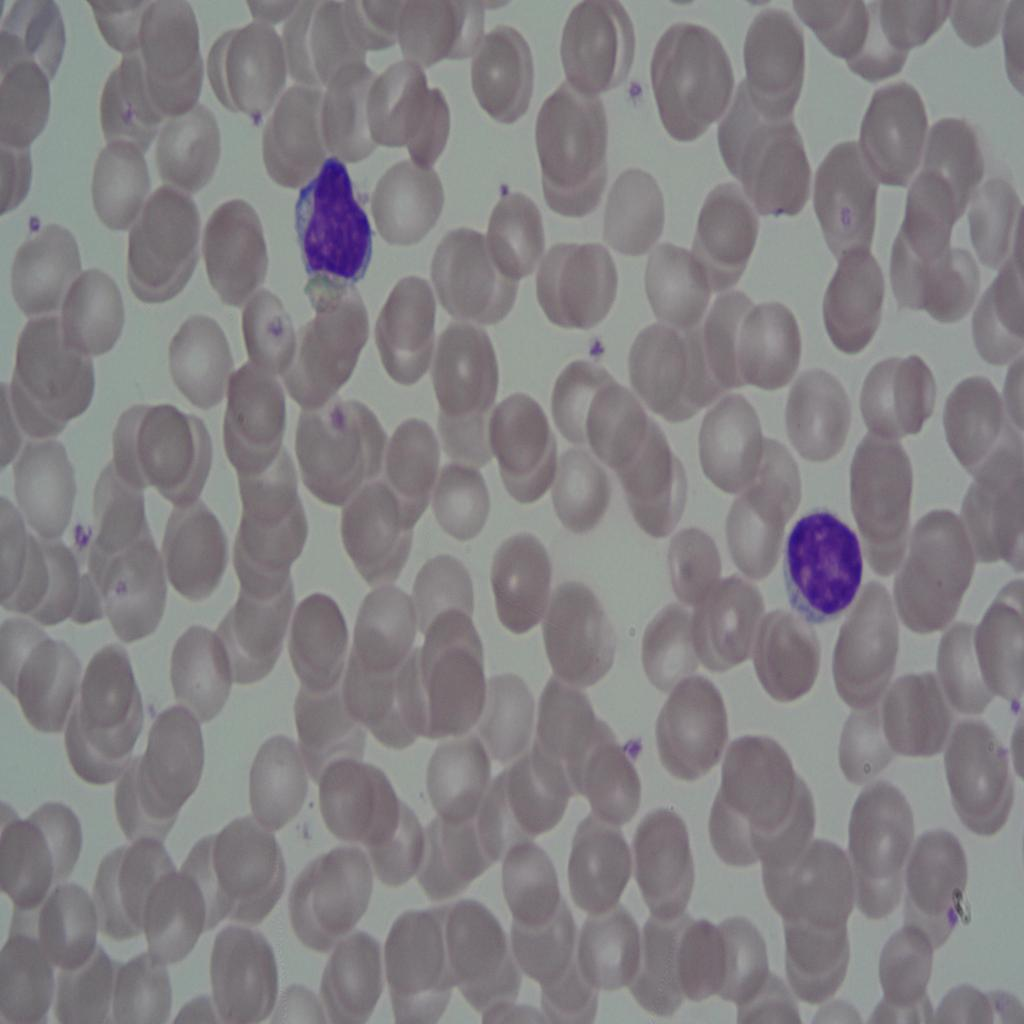Myeoblast: (284, 153, 378, 301), (772, 504, 864, 633)
Platelet: (66, 502, 100, 551), (114, 98, 148, 140), (619, 728, 650, 772), (323, 396, 353, 440), (21, 202, 48, 243), (1000, 686, 1024, 732), (585, 332, 613, 370), (258, 306, 285, 344), (942, 897, 968, 935), (247, 101, 271, 134), (626, 71, 644, 113), (110, 568, 130, 597), (496, 176, 514, 206)
